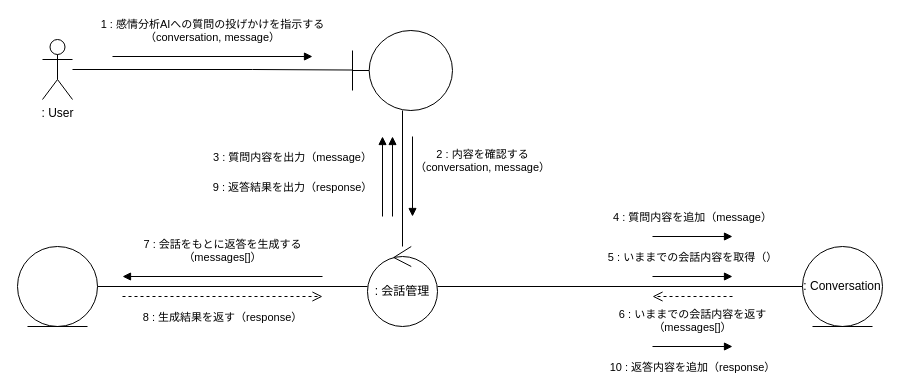
The diagram is 900 pixels wide and 390 high, and some of its shapes have lost their labels. The shapes that lost their labels are listed below. From the top down, each one's centre as x and y in pixels, then its label:
At point (402, 70): ": AIと会話を する画面".
At point (57, 286): ": Emotion AI".
